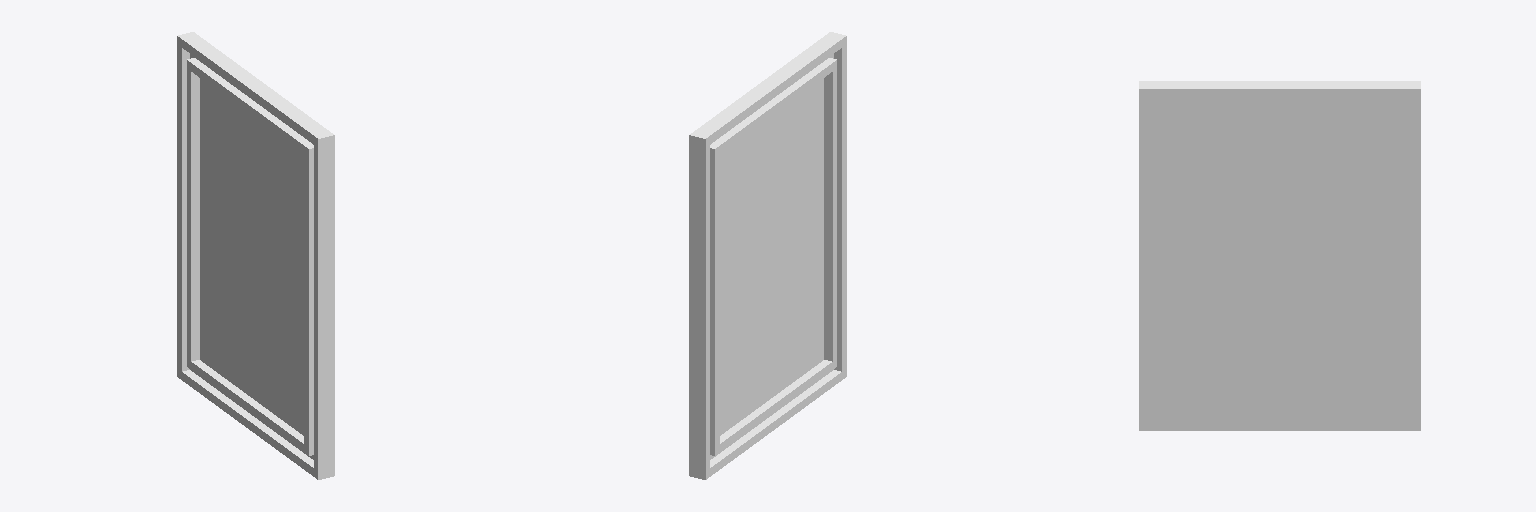
Rendered from Painting-0.obj.
The picture shows the model from 3 angles: view 1: azimuth 30°, elevation 25°; view 2: azimuth 150°, elevation 25°; view 3: azimuth 270°, elevation 25°; orthographic projection.
Visible parts, largest first — view 1: Painting-0; view 2: Painting-0; view 3: Painting-0.
Boxes of the visible parts, x1,y1,x2,y2 form: Painting-0: [177, 32, 334, 479]; Painting-0: [689, 32, 846, 479]; Painting-0: [1139, 81, 1420, 430].
Bounding box in the file's own units: 2 × 40 × 30.